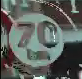Speed limit: (5, 3, 66, 69)
